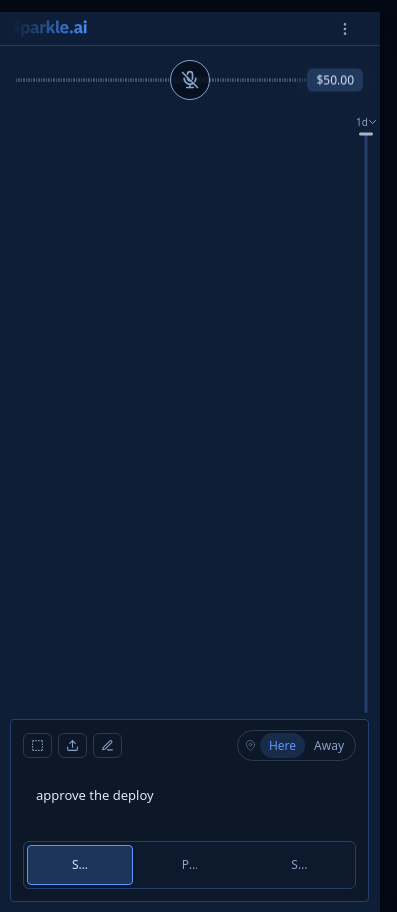
Test case: ConciergeHost — dictated input › a DICTATED turn reaches the brain like any other
This screenshot has width=397, height=912.
Click the button "Send" at (80, 865), box [27,845,133,885]
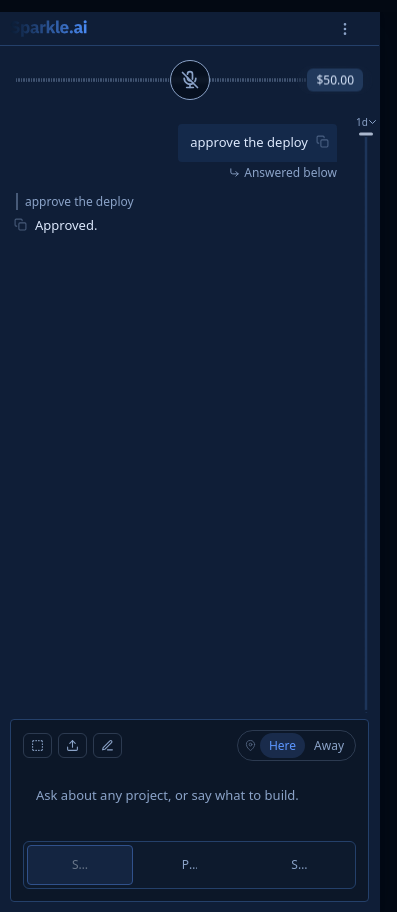
Check: the text "Approved." is shown, box [35,216,97,234]
